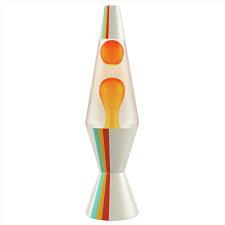Lamp: (83, 3, 141, 222)
